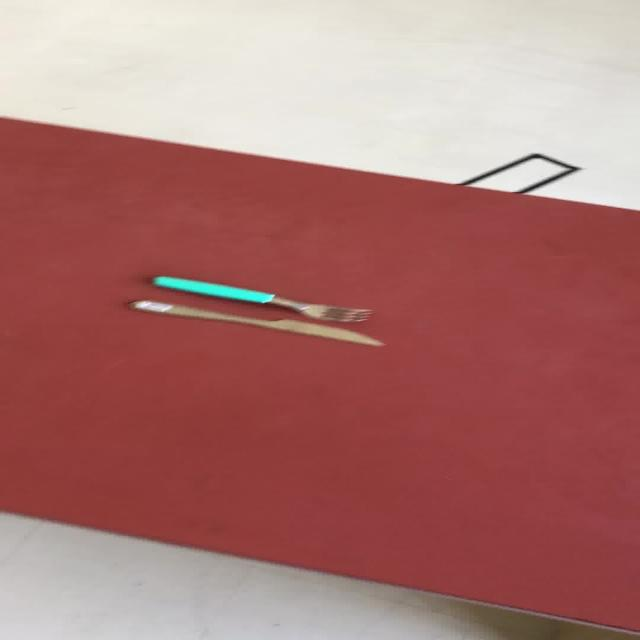fork: (148, 274, 372, 323)
knife fork: (126, 298, 385, 347)
